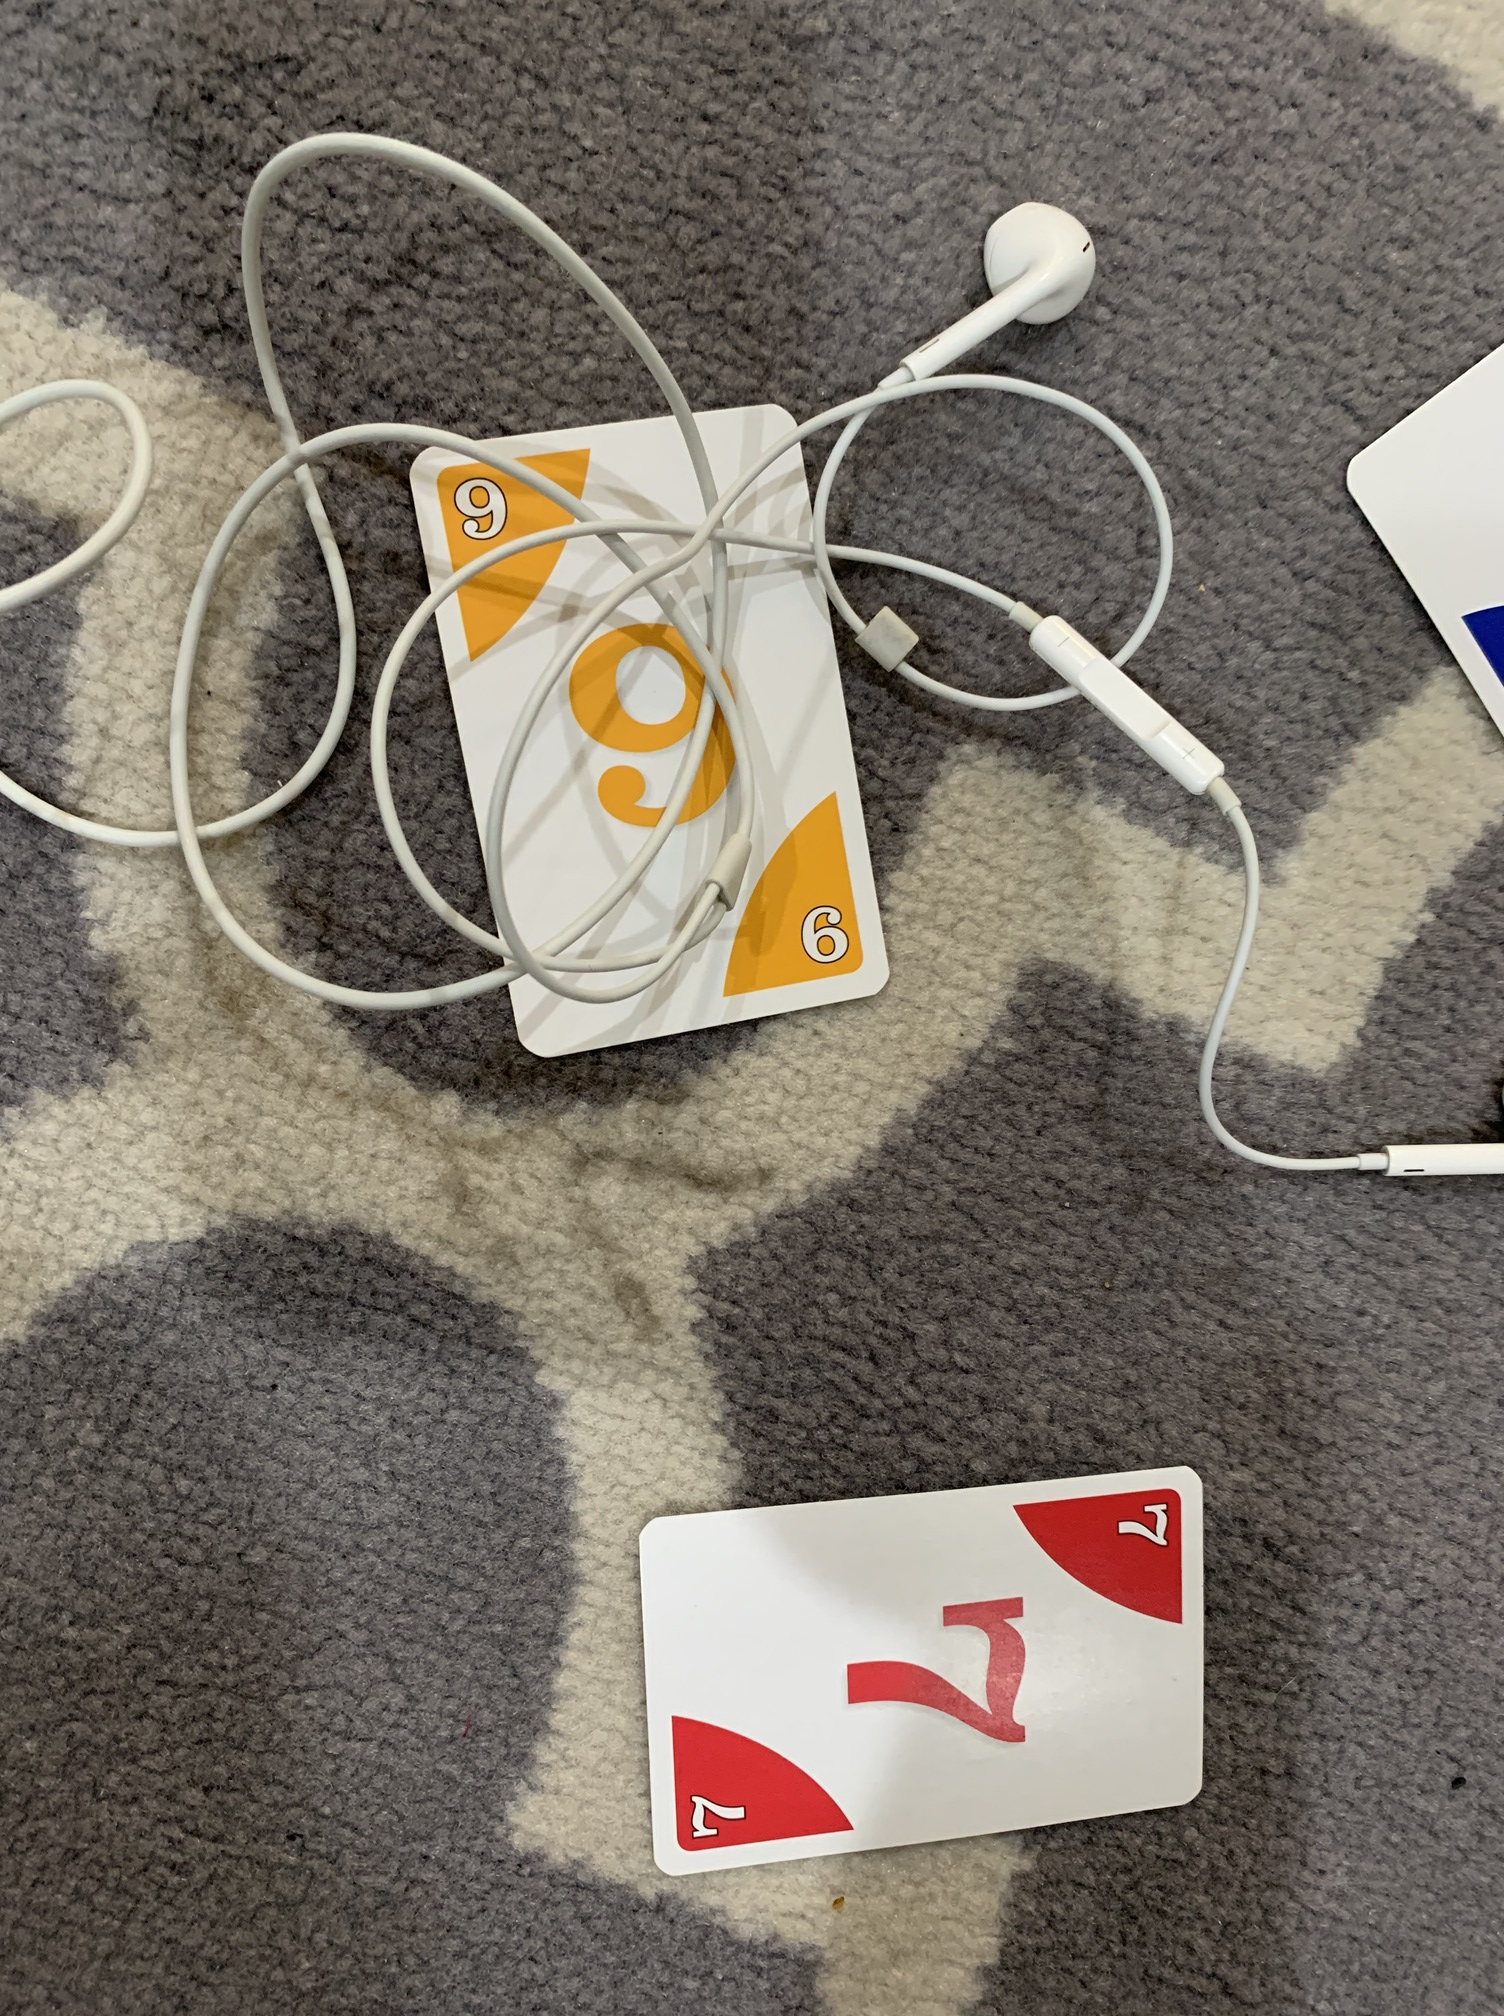nine: (397, 386, 905, 1076)
seven: (613, 1465, 1231, 1882)
